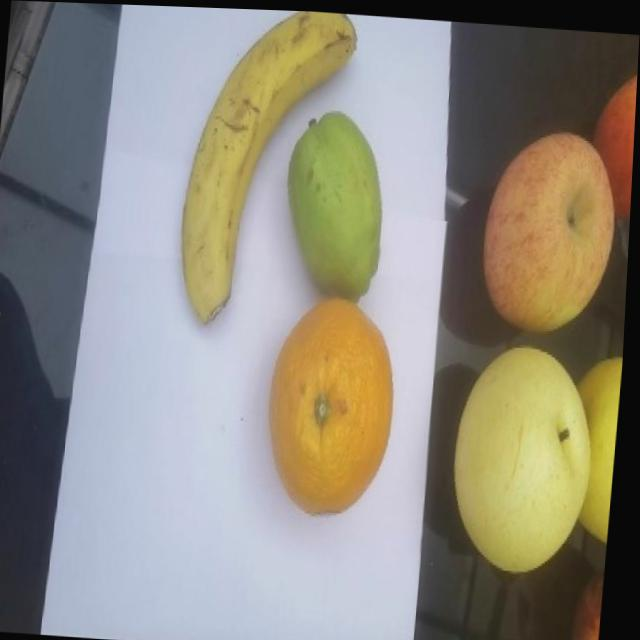Apple: (480, 122, 624, 333), (588, 60, 638, 215)
Banana: (176, 5, 361, 332)
Orange: (265, 288, 406, 516)
